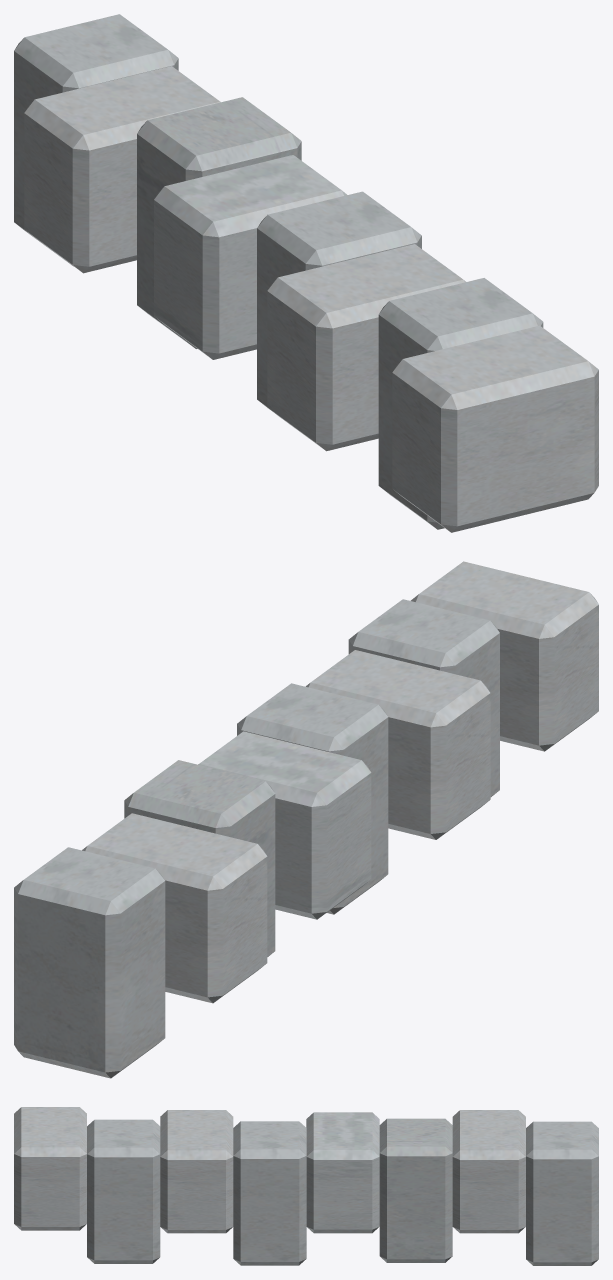
File: WallTrim.FBX
3 views of the same model, one above another, from view 1: azimuth 30°, elevation 25°; view 2: azimuth 150°, elevation 25°; view 3: azimuth 270°, elevation 25° (orthographic). The views are drawn at different scales.
Visible parts, largest first — view 1: pCube2947_1__WallBlock01; view 2: pCube2947_1__WallBlock01; view 3: pCube2947_1__WallBlock01.
Part boxes in pixels (<box>): pCube2947_1__WallBlock01: <box>14,14,598,532</box>; pCube2947_1__WallBlock01: <box>14,561,598,1078</box>; pCube2947_1__WallBlock01: <box>14,1107,598,1265</box>.
Bounding box in the file's own units: 79.88 × 90.33 × 400.
